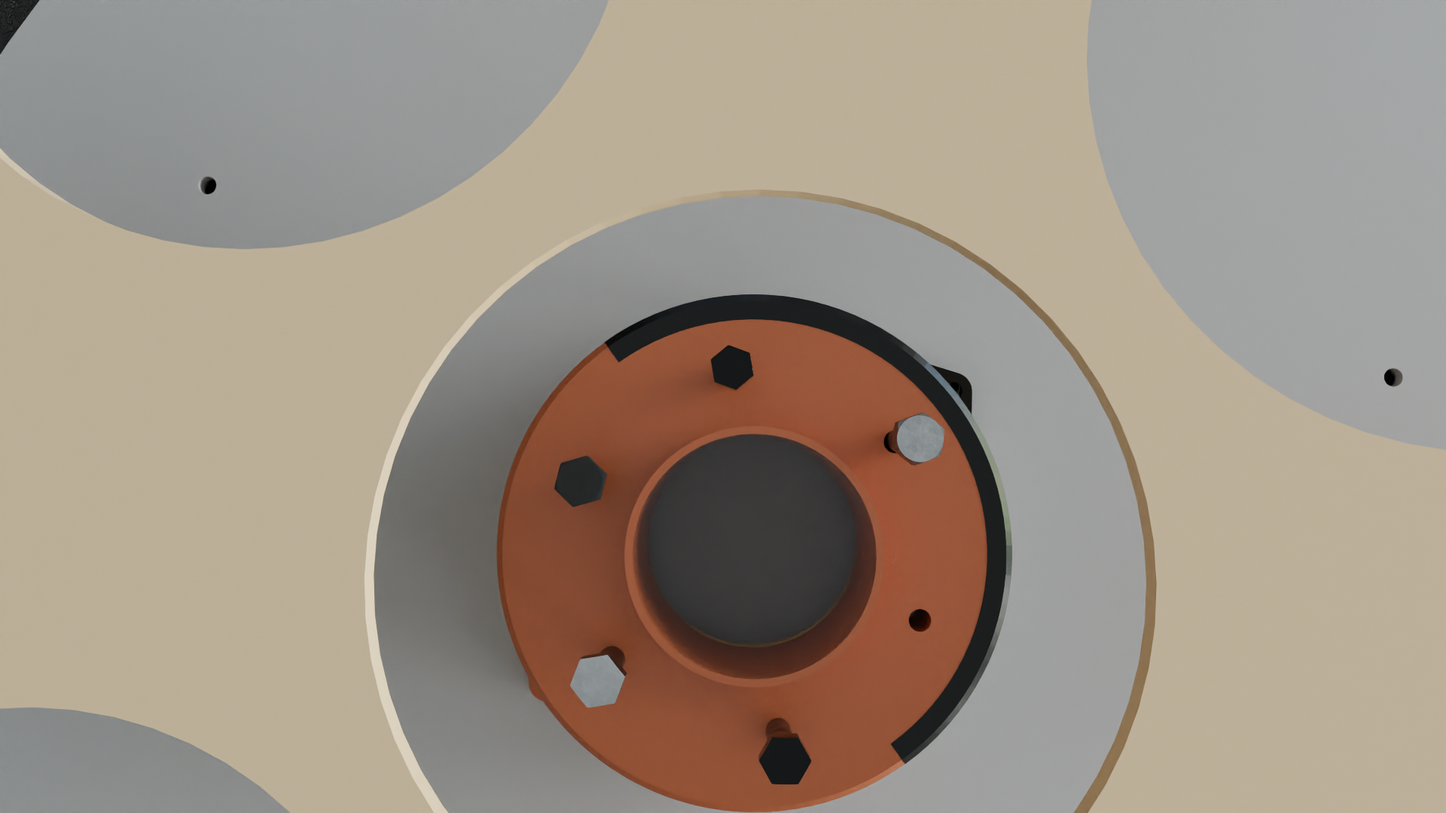bolt: (570, 655, 625, 708), (554, 456, 605, 507), (894, 413, 944, 465), (759, 738, 811, 784), (711, 345, 754, 390)
